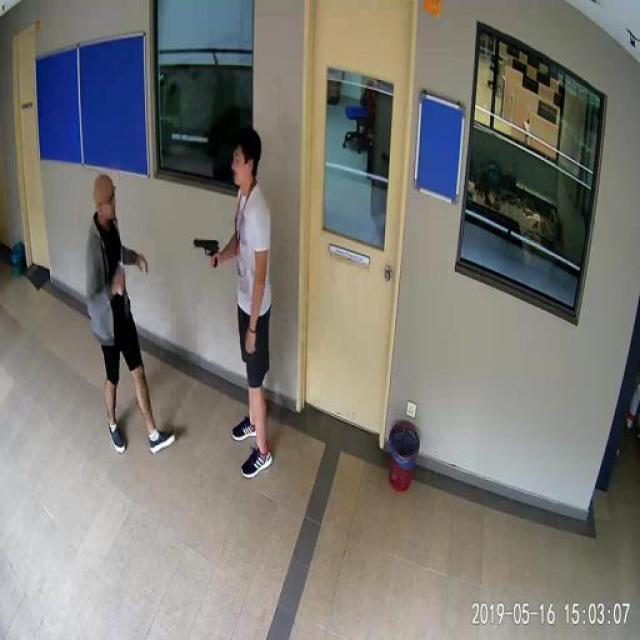weapon: (192, 234, 222, 269)
